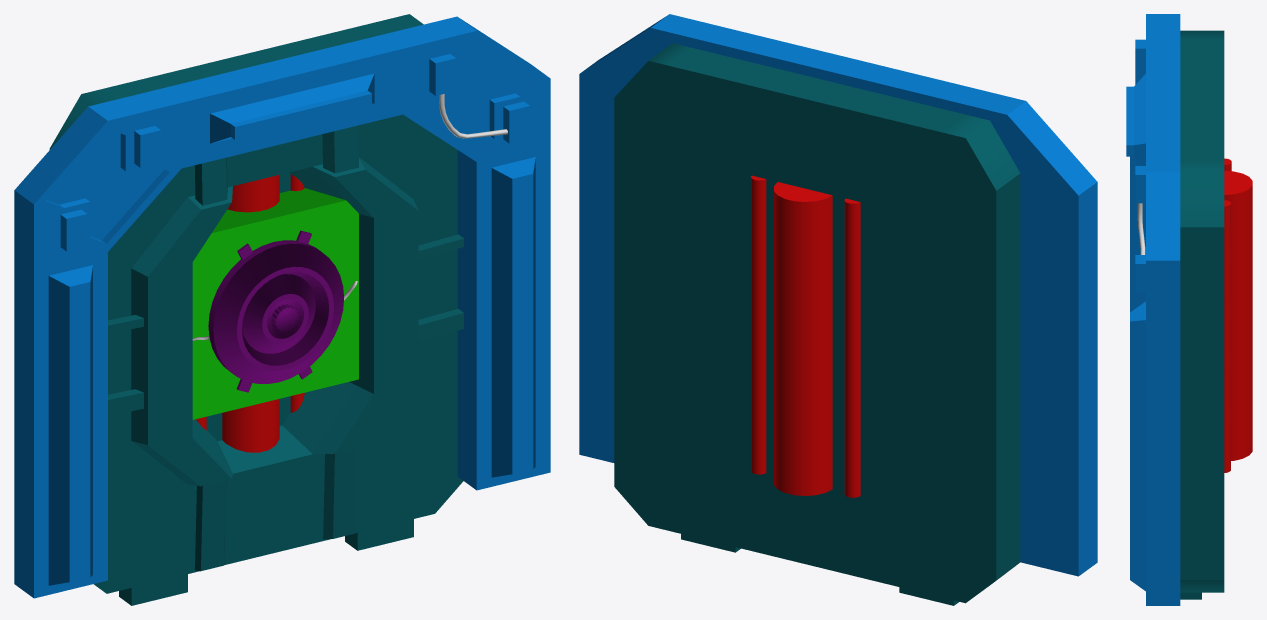
The model's file is puerta.fbx.
3 renders of one model, left to right at view 1: azimuth 30°, elevation 25°; view 2: azimuth 150°, elevation 25°; view 3: azimuth 270°, elevation 25°, orthographic. The views are drawn at different scales.
Visible parts, largest first — view 1: Cosa; view 2: Cosa; view 3: Cosa.
Part boxes in pixels (x1,y1,x2,y2): Cosa: (14, 14, 550, 605); Cosa: (579, 14, 1097, 605); Cosa: (1126, 14, 1252, 605).
Size of the model in its own units: 113 by 106 by 27.29.
